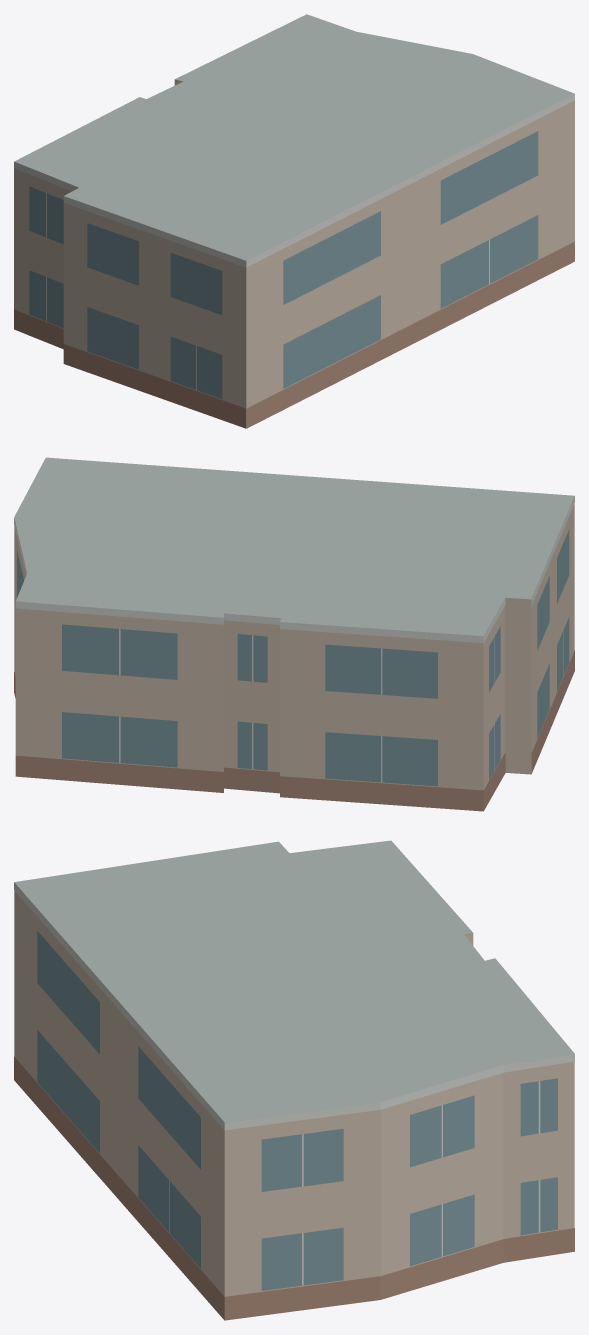
Rendered from survey-upis-32695798.glb.
3 views of the same model, one above another, from view 1: azimuth 30°, elevation 25°; view 2: azimuth 150°, elevation 25°; view 3: azimuth 270°, elevation 25° (orthographic). The views are drawn at different scales.
Visible parts, largest first — view 1: survey-upis-32695798.tmp; view 2: survey-upis-32695798.tmp; view 3: survey-upis-32695798.tmp.
Boxes of the visible parts, box(x1,y1,x2,y2) form: survey-upis-32695798.tmp: box(14, 14, 574, 428); survey-upis-32695798.tmp: box(14, 457, 574, 811); survey-upis-32695798.tmp: box(14, 840, 574, 1320).
Bounding box in the file's own units: 18.65 × 6.1 × 15.67.
